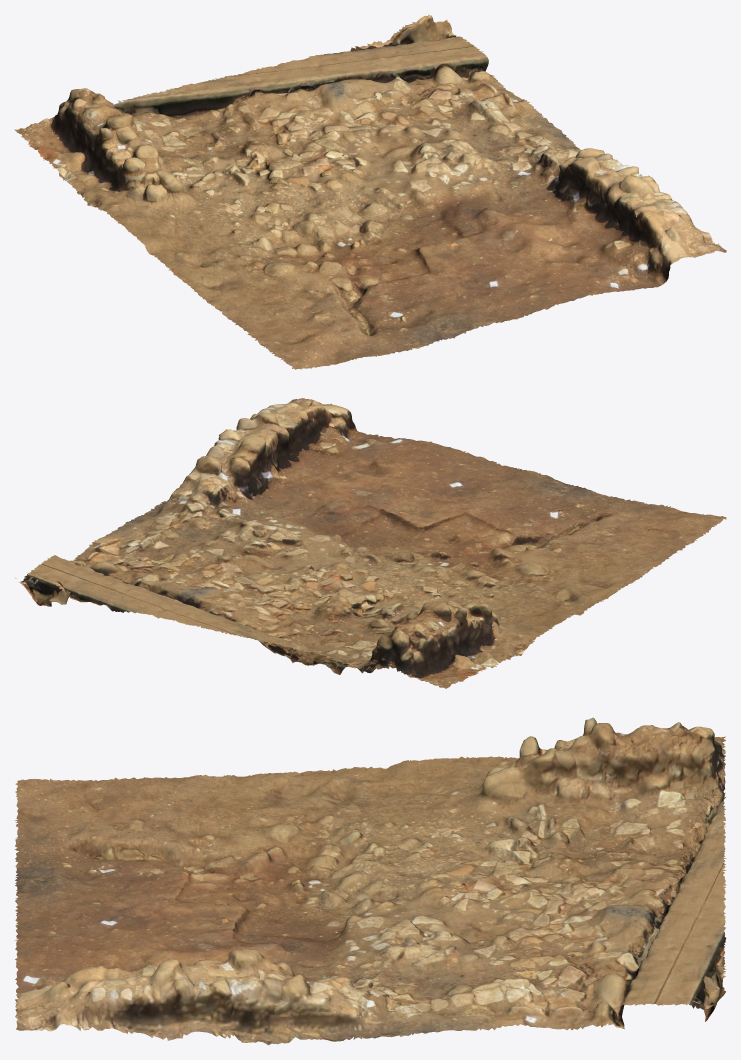
Rendered from Montebelluna_scavo.019_LOD1.gltf.
3 renders of one model, top to bottom at view 1: azimuth 30°, elevation 25°; view 2: azimuth 150°, elevation 25°; view 3: azimuth 270°, elevation 25°, orthographic. The views are drawn at different scales.
Parts seen in each view (by area): view 1: Montebelluna_scavo.019_LOD1_SM_Montebelluna_scavo.019_LOD1; view 2: Montebelluna_scavo.019_LOD1_SM_Montebelluna_scavo.019_LOD1; view 3: Montebelluna_scavo.019_LOD1_SM_Montebelluna_scavo.019_LOD1.
Part boxes in pixels (x1,y1,x2,y2): Montebelluna_scavo.019_LOD1_SM_Montebelluna_scavo.019_LOD1: (14,14,726,369); Montebelluna_scavo.019_LOD1_SM_Montebelluna_scavo.019_LOD1: (15,398,726,688); Montebelluna_scavo.019_LOD1_SM_Montebelluna_scavo.019_LOD1: (14,717,726,1045).
Bounding box in the file's own units: 3.88 × 0.7152 × 4.36.
1 material, 1 textured.
